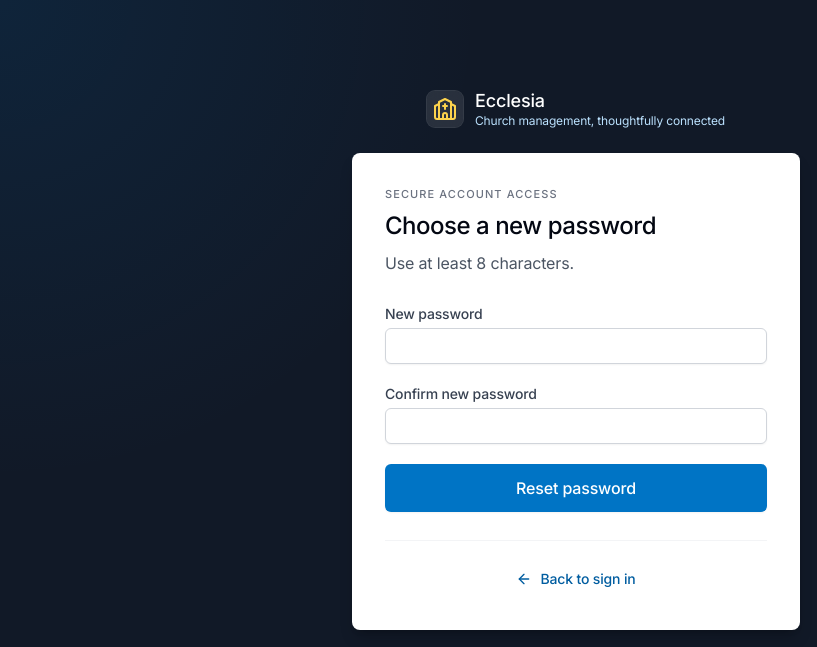
Test: ResetPasswordPage › submits token and password, then offers sign in
The width and height of the screenshot is (817, 647).
Type "longenough1" into the password field labelled "New password" at (576, 346), box [385,328,767,364]
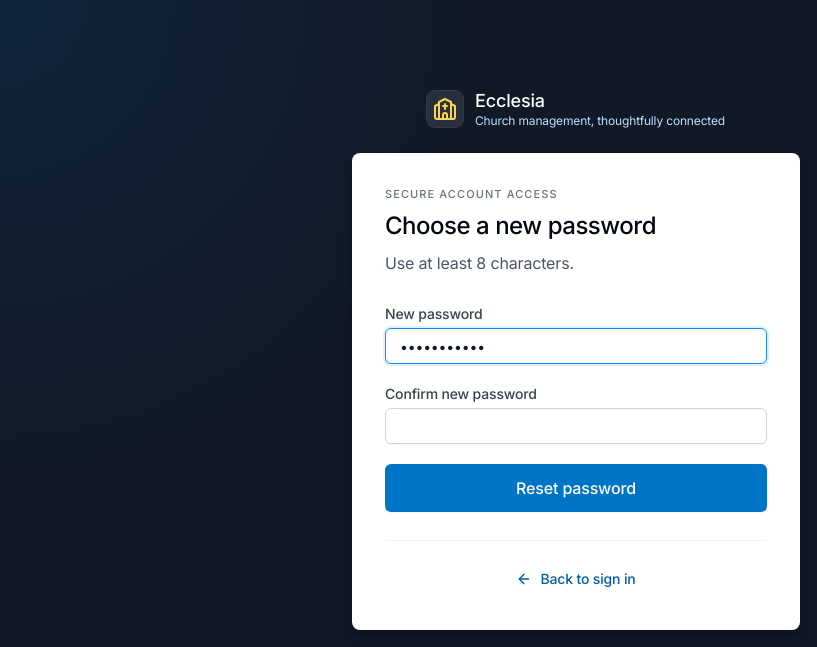
Type "longenough1" into the password field labelled "Confirm new password" at (576, 426), box [385,408,767,444]
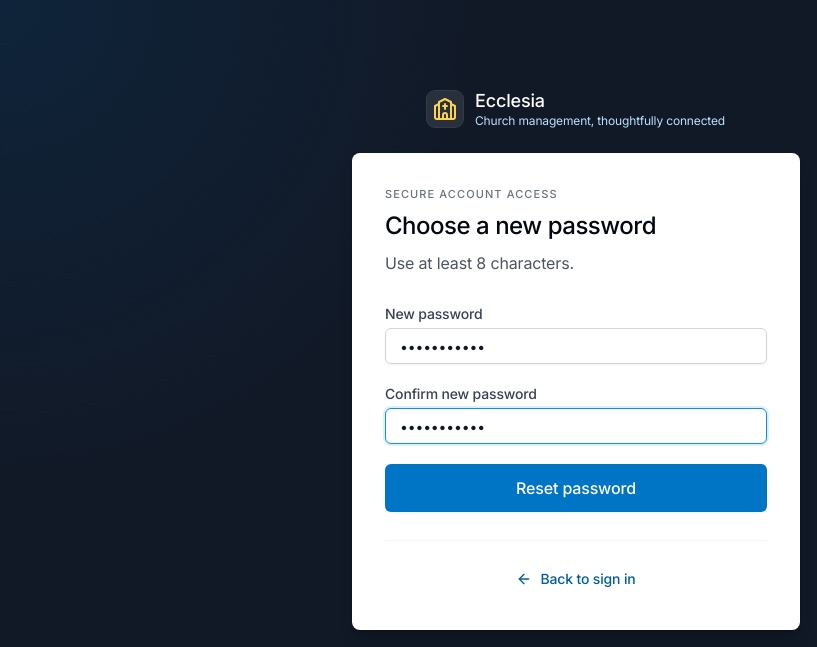
Click the button "Reset password" at (576, 488), box [385,464,767,512]
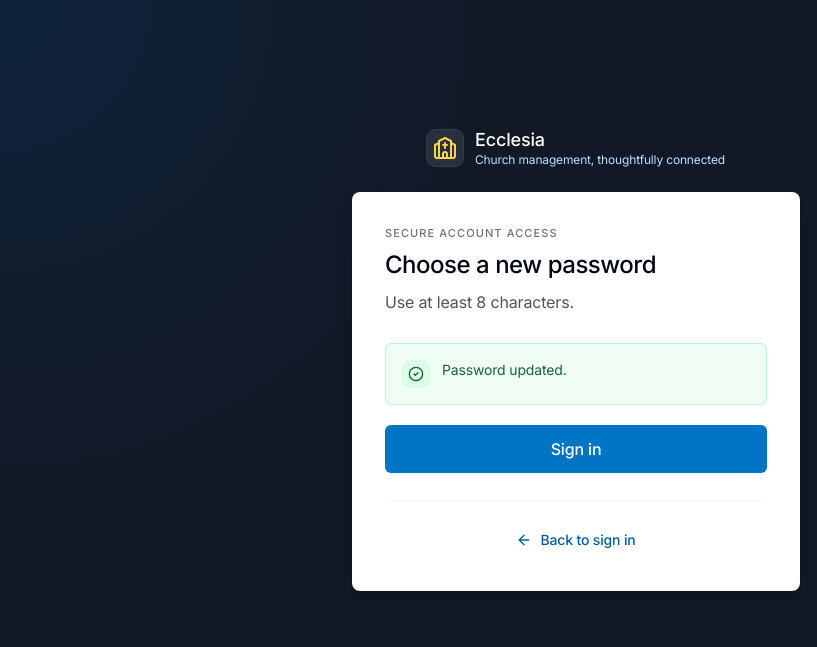
Expected: the message reads "Password updated.", [442,361,566,378]
Expected: the link "Sign in" is shown, [385,425,767,473]
